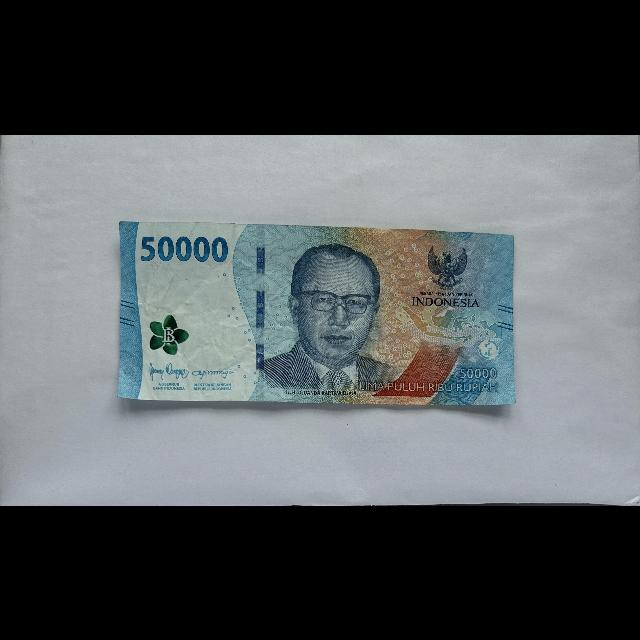Asli-50k: (116, 218, 518, 406)
Tinta-Asli-50k: (149, 313, 190, 355)
